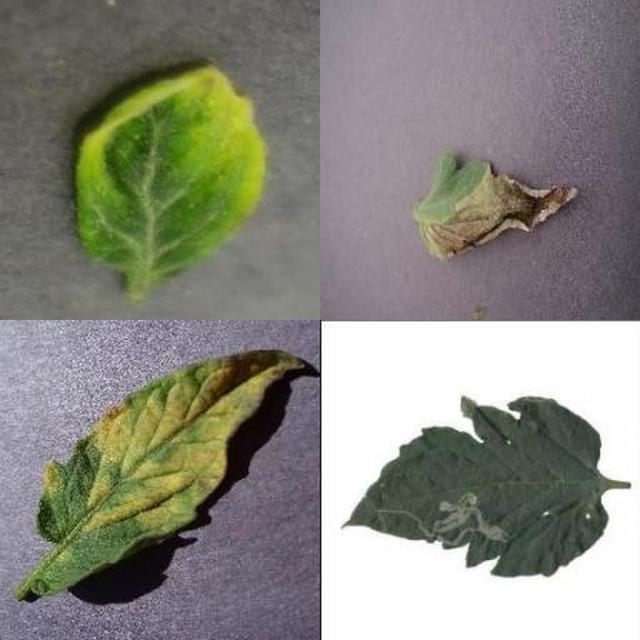Yellow Leaf Curl Virus: (232, 150, 640, 640)
